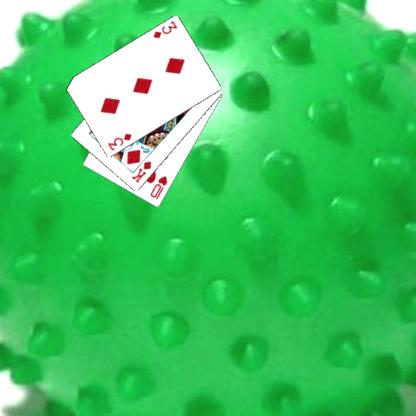10H: (148, 173, 168, 201)
3D: (105, 131, 133, 153), (150, 18, 178, 40)
KD: (129, 159, 152, 184)
